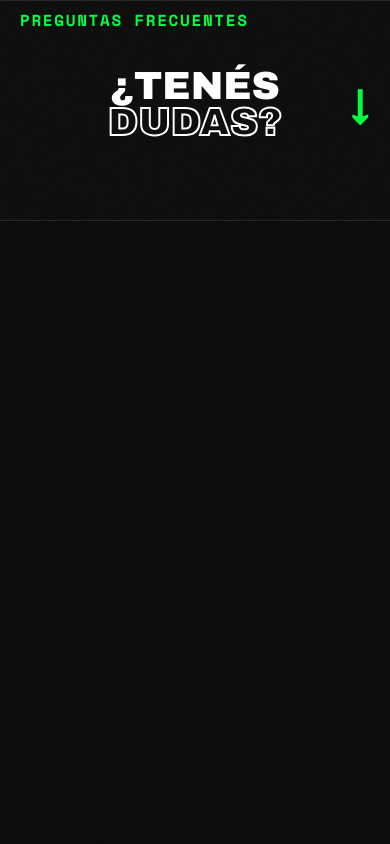
Test: Faqs › resets the open item when the mobile header collapses the list
Click the button "¿Tenés dudas? ↓": (195, 104) [20,68,370,140]
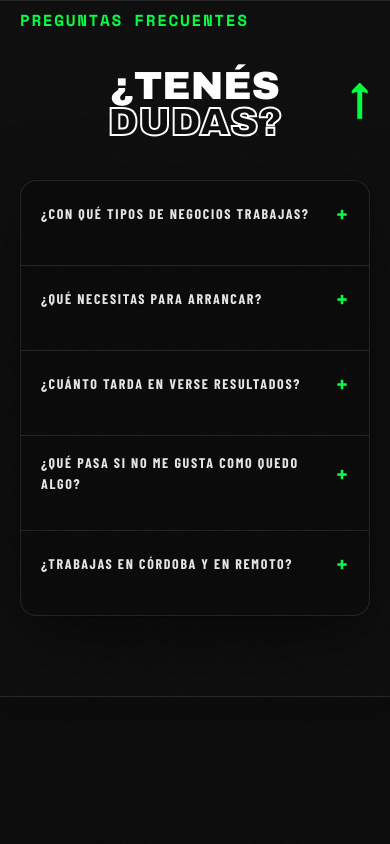
Now the button "¿Tenés dudas? ↓" is expanded, box [20,68,370,140]
Click the button "¿Con qué tipos de negocios trabajas? +": (195, 213) [21,181,369,245]
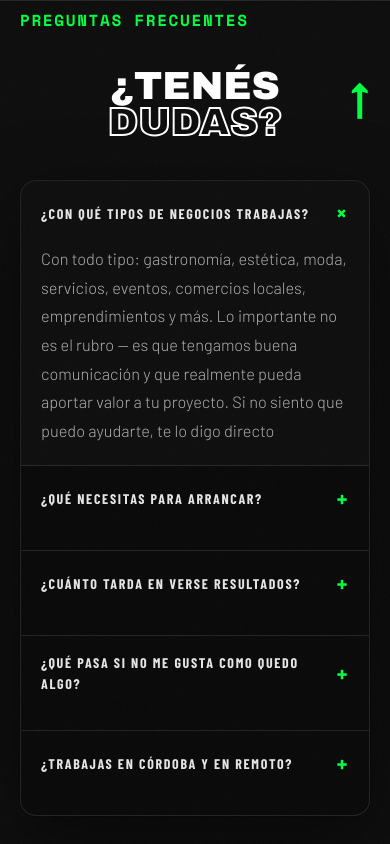
Now the button "¿Con qué tipos de negocios trabajas? +" is expanded, box [21,181,369,245]
Click the button "¿Tenés dudas? ↓": (195, 104) [20,68,370,140]
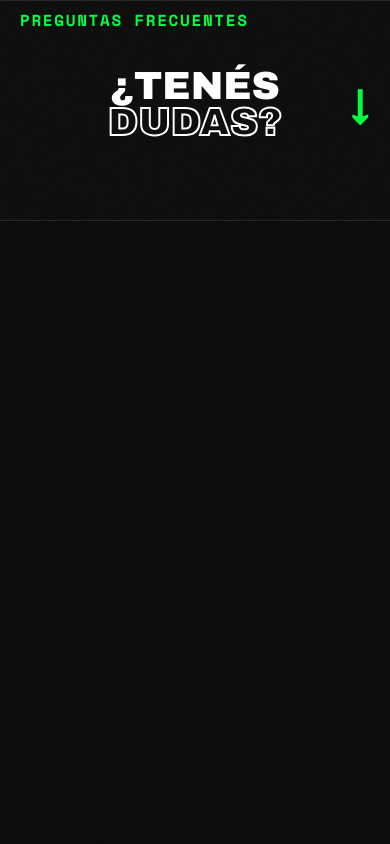
Now the button "¿Tenés dudas? ↓" is collapsed, box [20,68,370,140]
